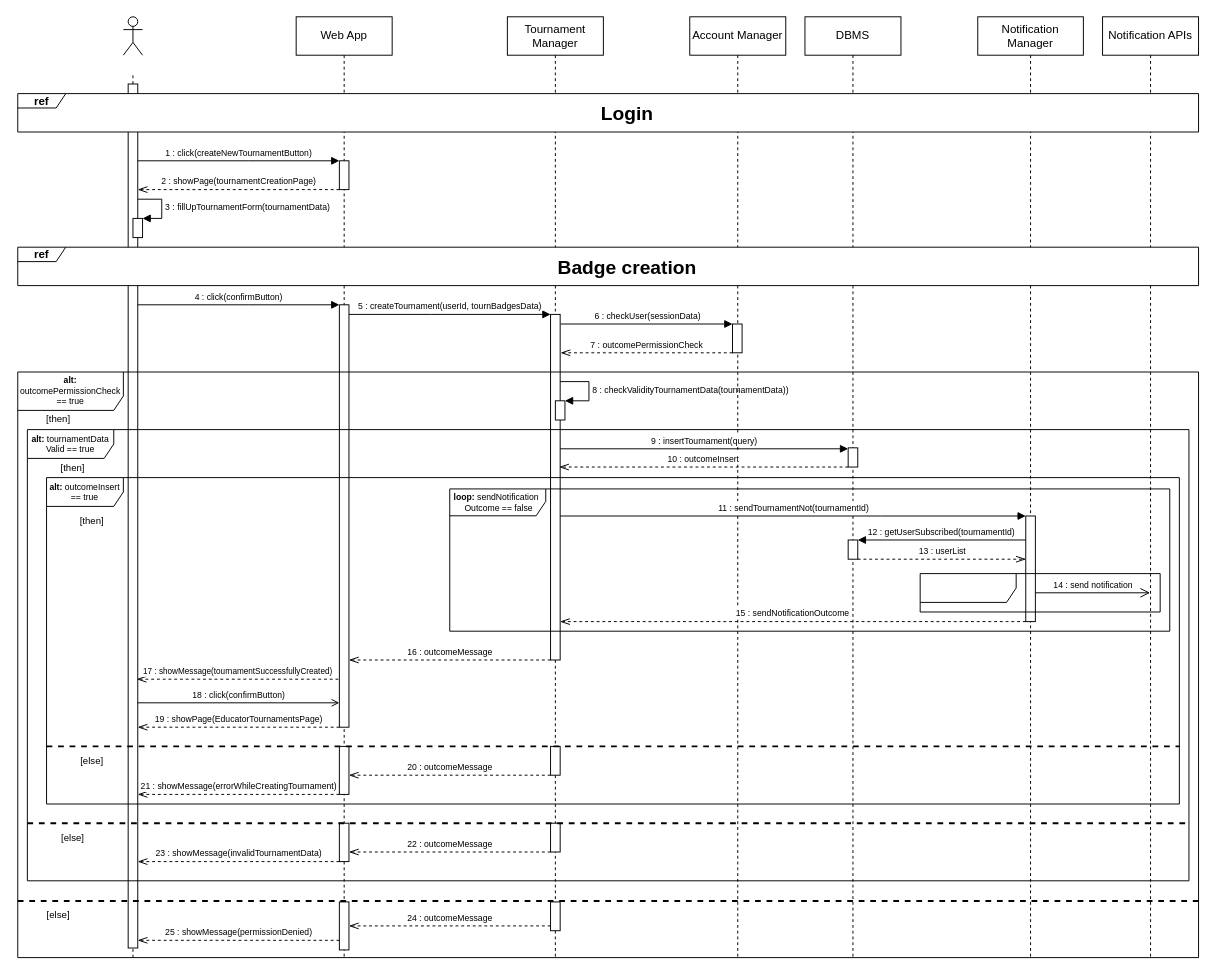
The diagram is 1216 pixels wide and 975 high, and some of its shapes have lost their labels. Each missing label, with the centre of its shape:
"Educator" belongs at point (132, 35).
"loop foreach: user in userList" belongs at point (1039, 592).
